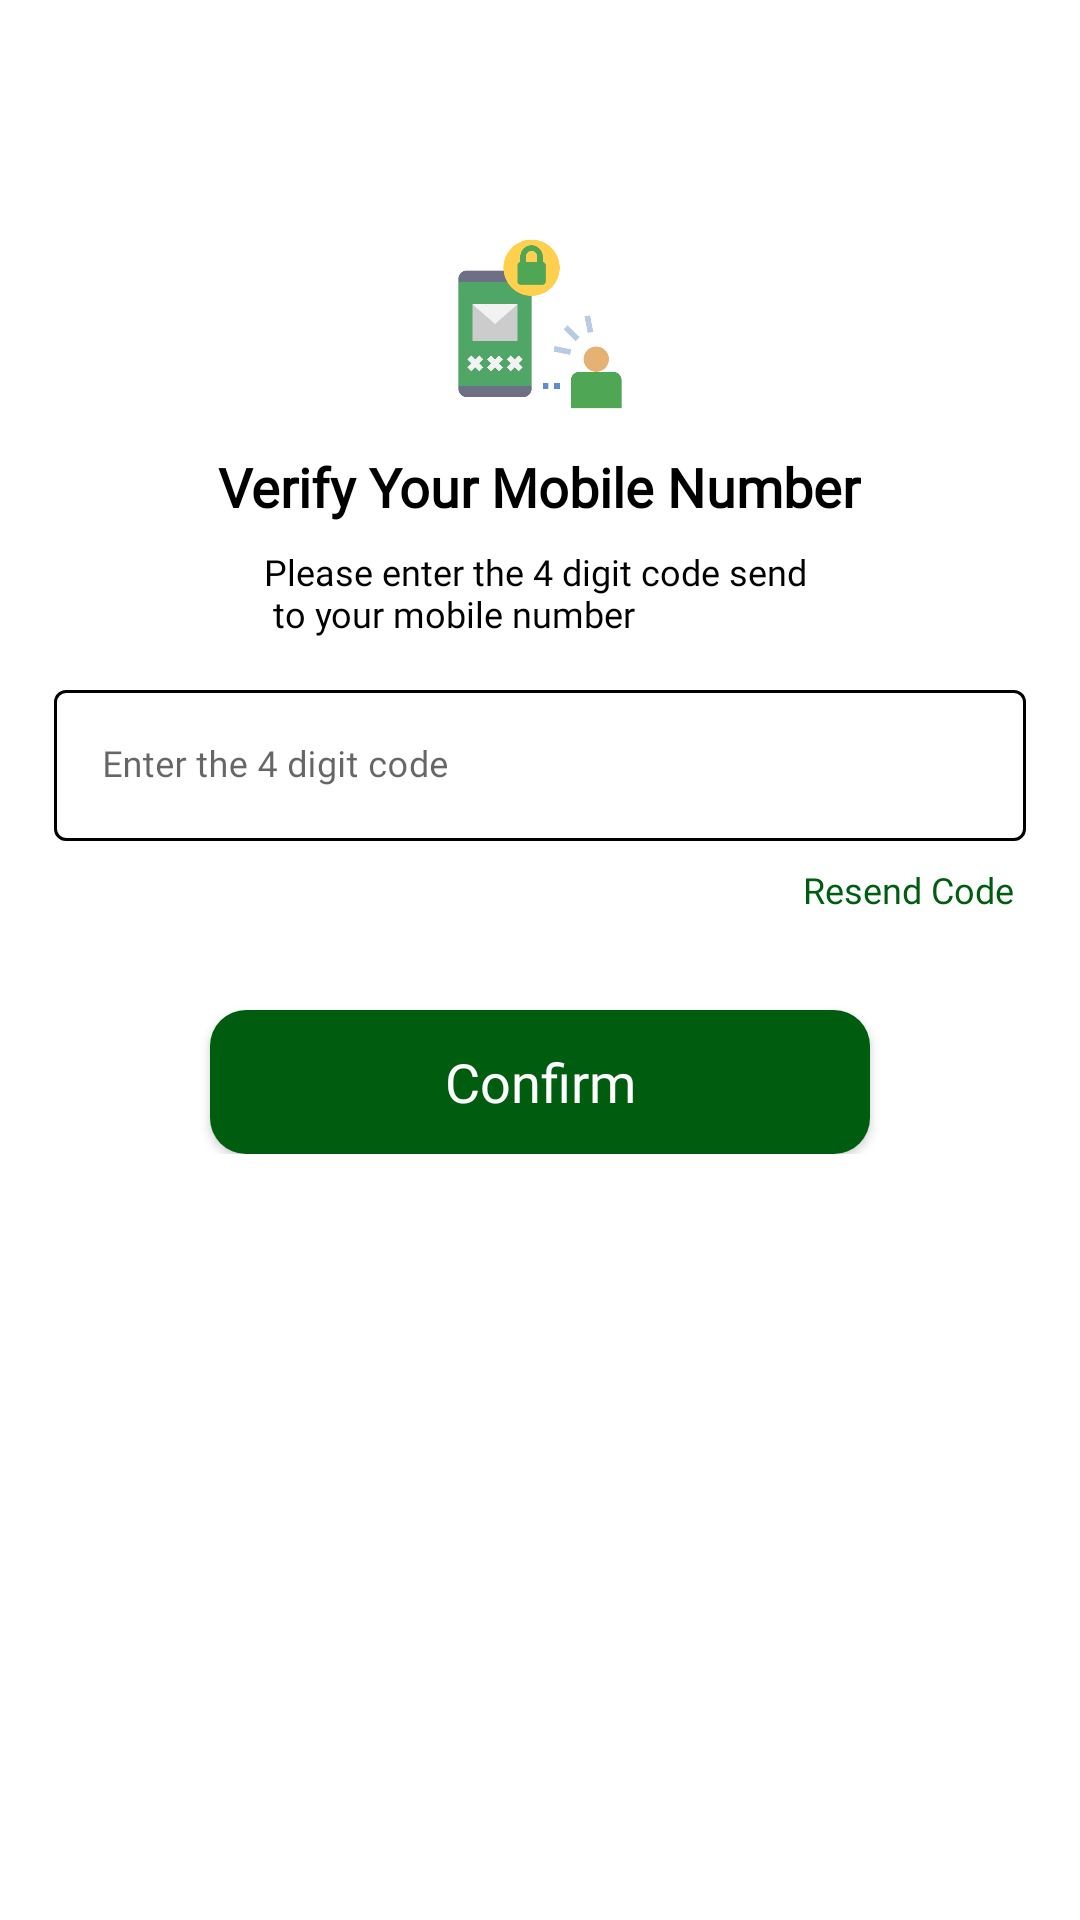

Named icons in this screenshot (1080px x 1920px) and their centers, point (x, y):
otp: point (540, 324)
